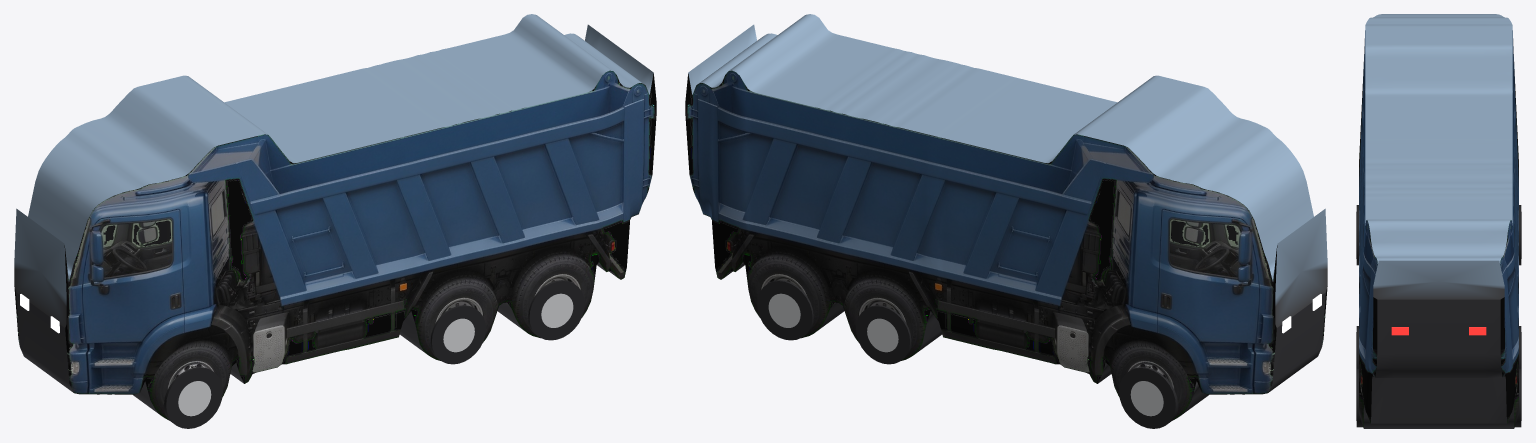
Rendered from dump.glb.
3 renders of one model, left to right at view 1: azimuth 30°, elevation 25°; view 2: azimuth 150°, elevation 25°; view 3: azimuth 270°, elevation 25°, orthographic. The views are drawn at different scales.
Visible parts, largest first — view 1: dump; view 2: dump; view 3: dump.
Boxes of the visible parts, <box> form: dump: <box>14,14,656,428</box>; dump: <box>685,14,1327,428</box>; dump: <box>1356,14,1521,428</box>.
Size of the model in its own units: 6.63 by 2.96 by 1.78.
8 materials, 2 textured.
